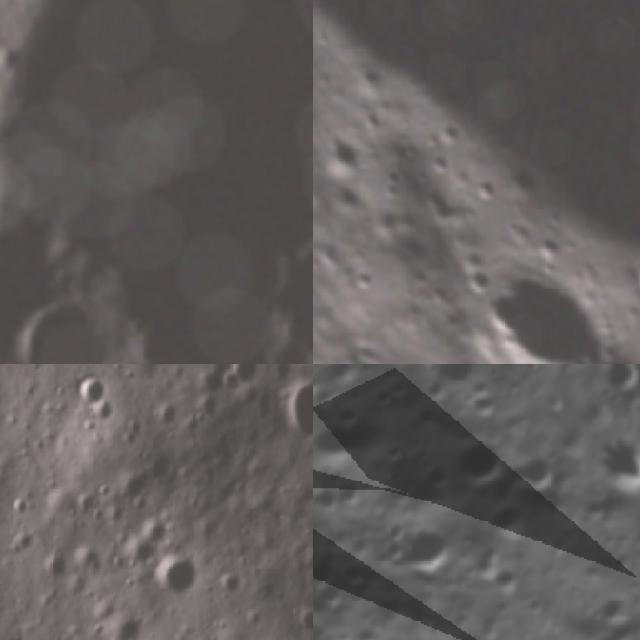crater: (0, 0, 313, 364), (456, 247, 639, 364), (0, 275, 127, 364), (313, 392, 400, 494), (382, 508, 472, 596), (502, 435, 587, 520), (446, 429, 520, 501), (56, 364, 129, 431), (145, 548, 207, 612), (580, 440, 640, 503), (485, 495, 544, 554), (270, 373, 313, 453), (313, 129, 370, 188), (313, 470, 362, 536), (416, 364, 494, 405), (412, 178, 467, 236), (418, 109, 473, 162), (321, 176, 367, 222), (340, 263, 383, 305), (460, 172, 502, 213), (620, 239, 640, 319), (0, 39, 34, 80), (354, 103, 389, 139), (579, 623, 640, 640), (419, 149, 448, 180)
